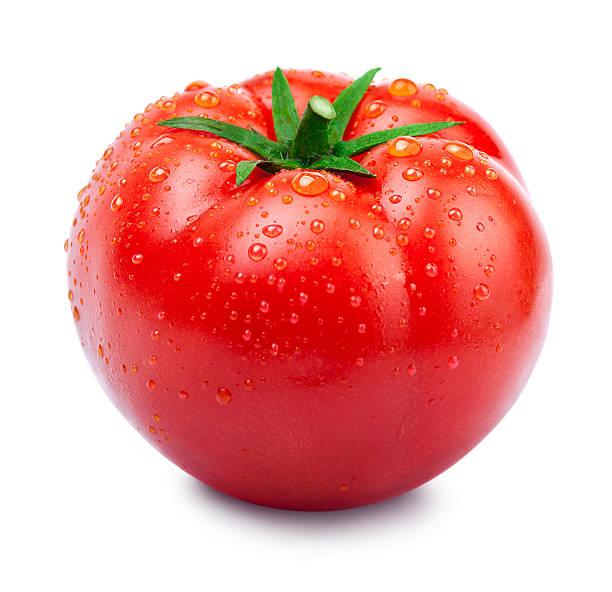Tomato: (59, 63, 557, 504)
